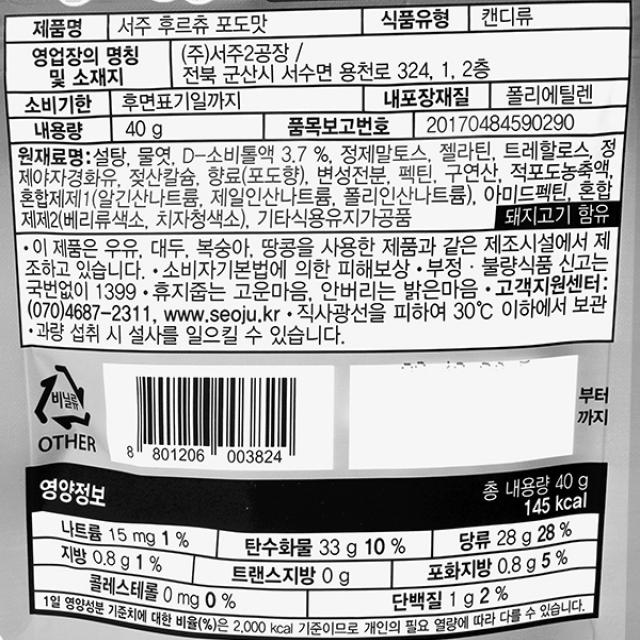Nutrition Label: (17, 464, 619, 640)
